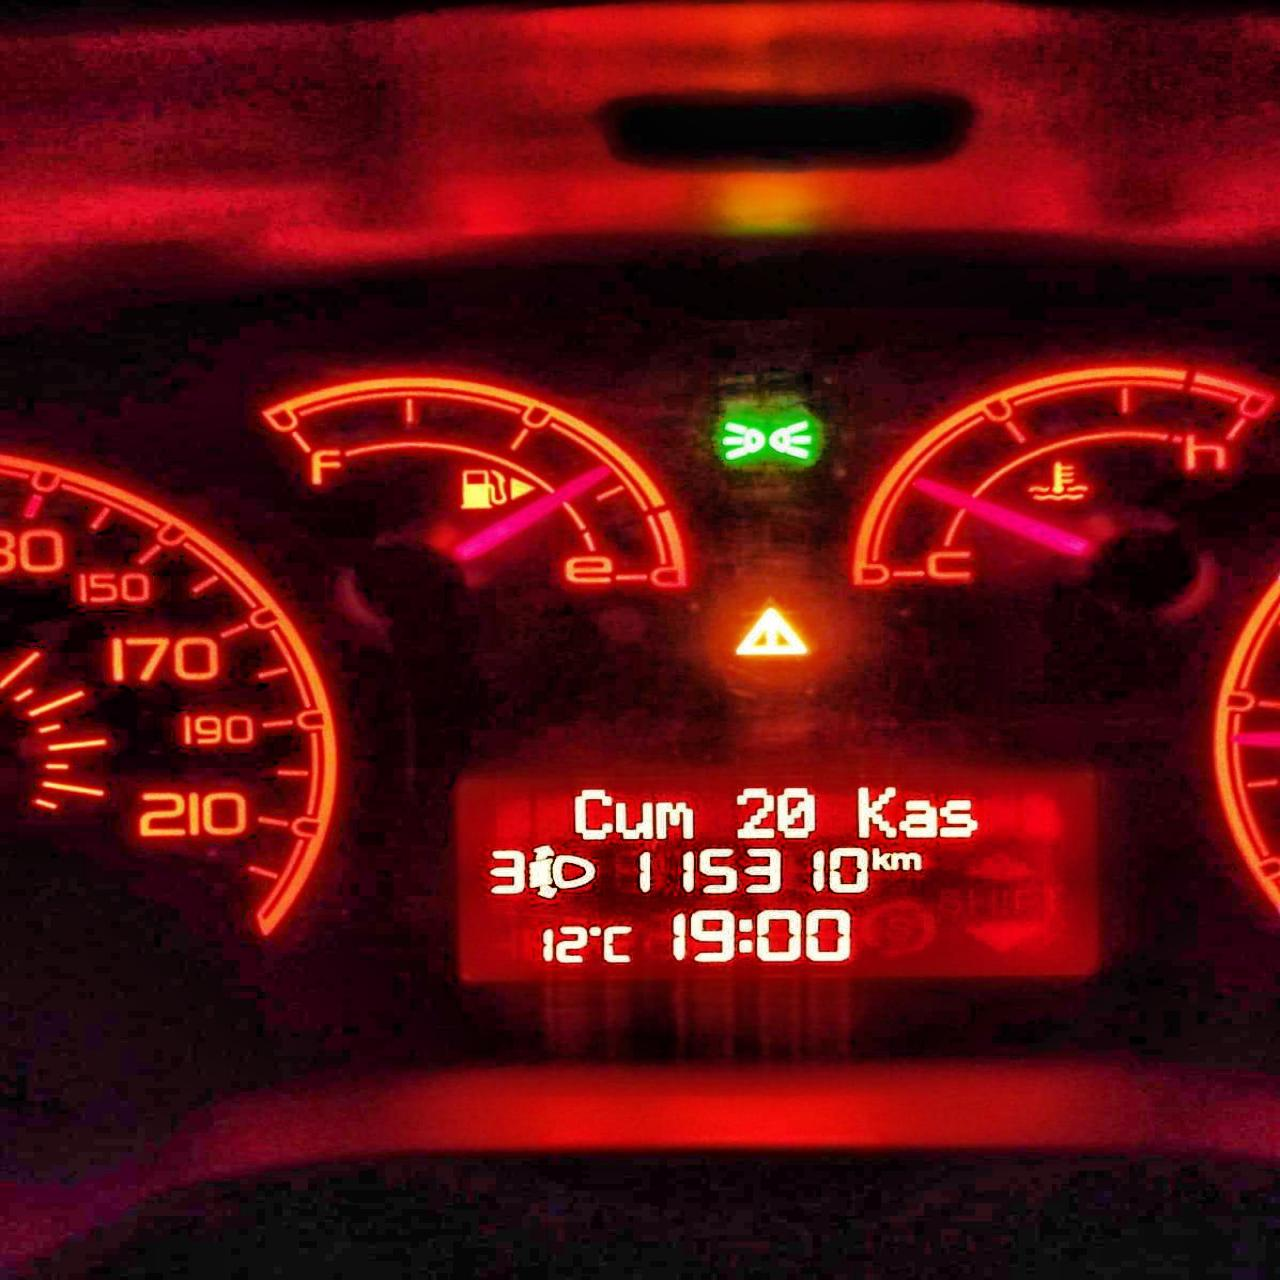0: (804, 907, 855, 964), (754, 906, 803, 962), (774, 787, 817, 838), (829, 845, 870, 894)
1: (668, 911, 688, 961), (634, 849, 655, 894), (678, 849, 696, 893), (810, 847, 825, 892), (539, 926, 554, 962)
2: (734, 785, 776, 840), (554, 924, 588, 965)
3: (741, 846, 783, 896), (486, 849, 526, 896)
5: (696, 847, 738, 893)
9: (688, 908, 735, 964)
X: (571, 784, 614, 842), (856, 785, 897, 838), (938, 797, 981, 838), (613, 799, 655, 840), (652, 799, 694, 840), (898, 798, 939, 839), (601, 924, 634, 965), (737, 917, 754, 956), (892, 851, 922, 872), (871, 847, 892, 872)
odometer: (444, 761, 1114, 994)
